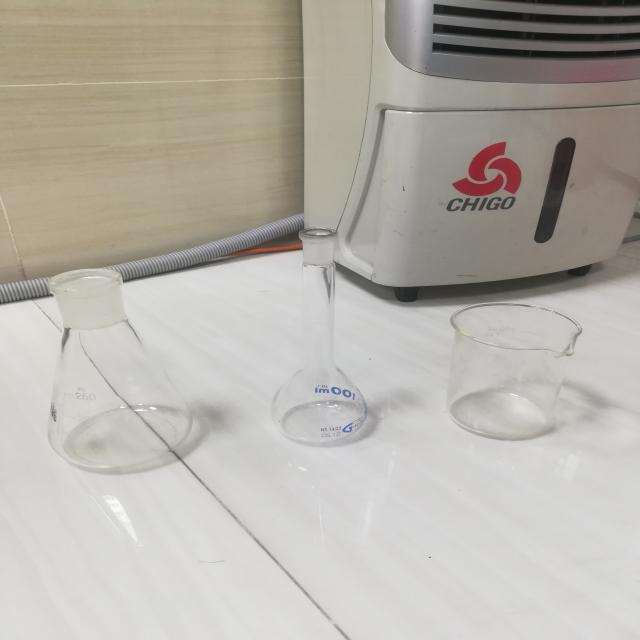Beaker: (433, 255, 595, 462)
Conical_Flask: (35, 232, 208, 482)
Volumetric_Flask: (248, 208, 392, 458)
